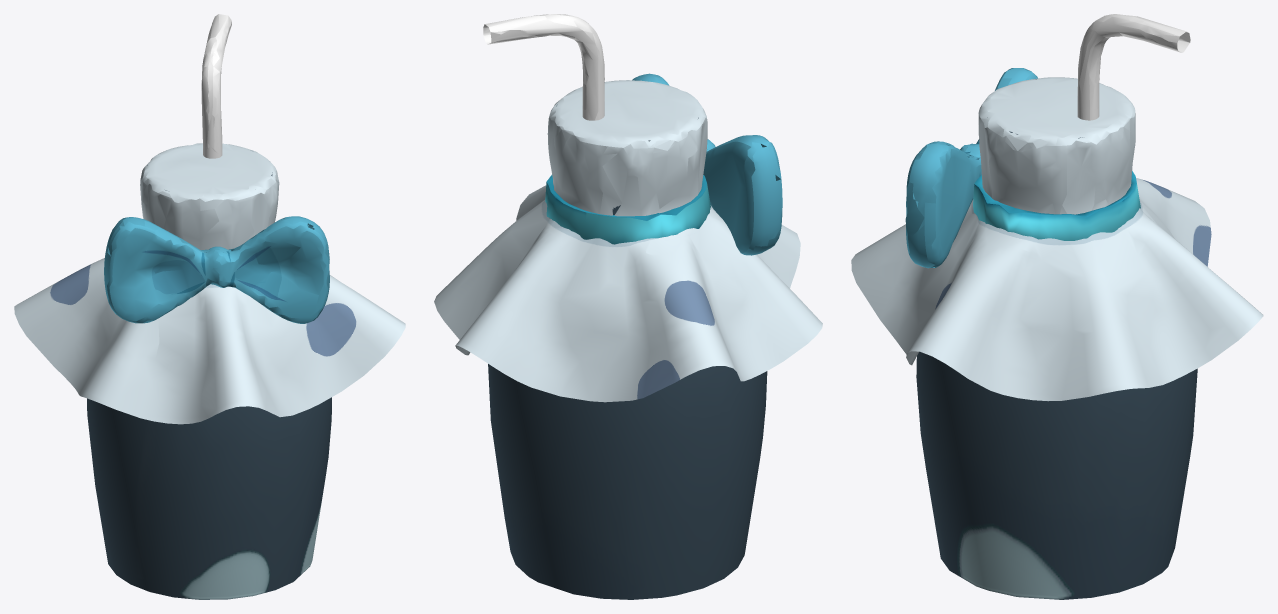
The model's file is lechedango.obj.
The picture shows the model from 3 angles, left to right: view 1: azimuth 30°, elevation 25°; view 2: azimuth 150°, elevation 25°; view 3: azimuth 270°, elevation 25°; orthographic projection. The views are drawn at different scales.
Parts seen in each view (by area): view 1: dango; view 2: dango; view 3: dango.
Boxes of the visible parts, x1,y1,x2,y2 form: dango: [14, 14, 405, 599]; dango: [434, 14, 822, 599]; dango: [851, 14, 1263, 599].
Size of the model in its own units: 0.8475 by 1.36 by 0.9148.
